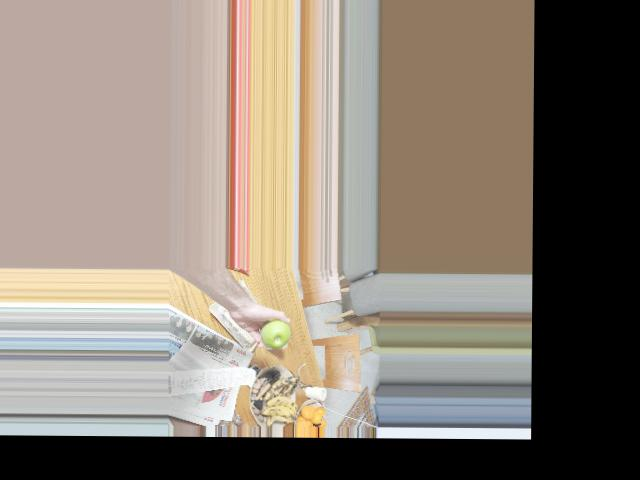apple: (259, 319, 292, 347)
